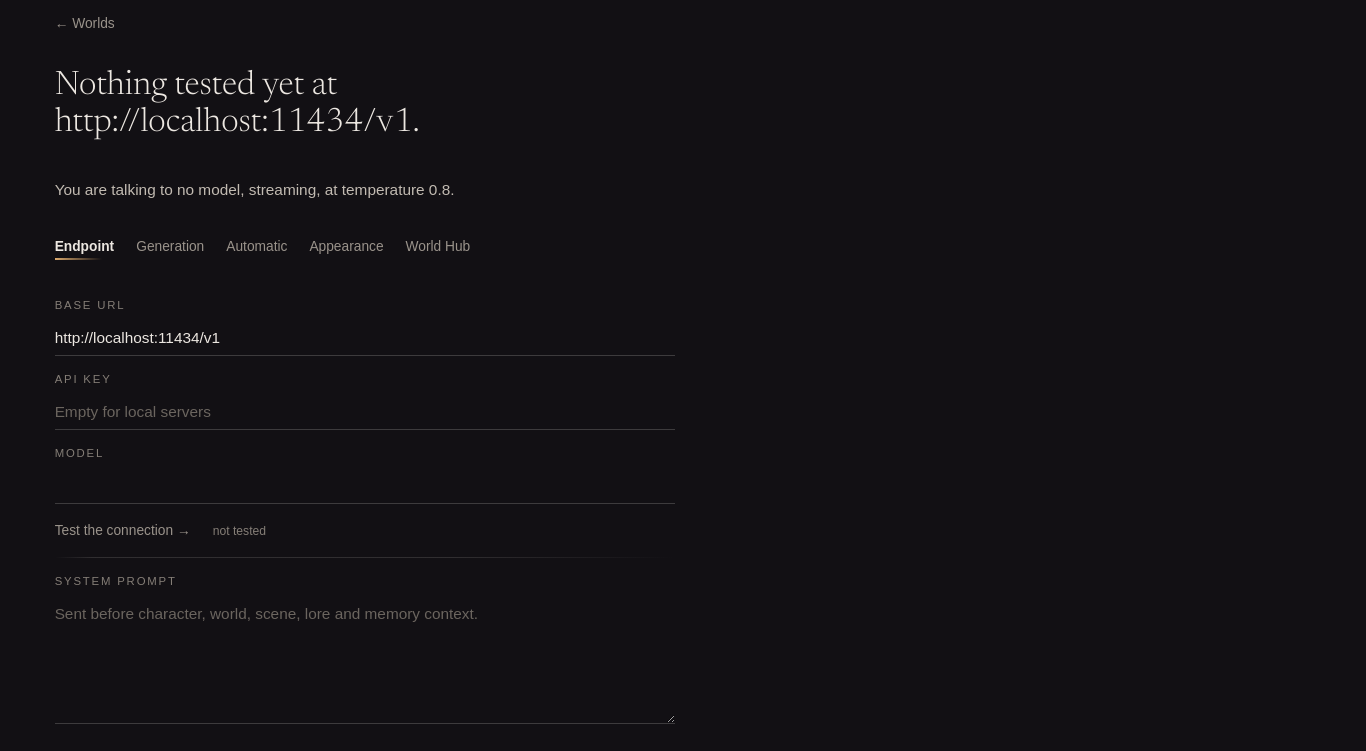
Test: generation settings › refuses to save a non-numeric sampling value
Click the tab "Generation" at point(170, 249), box [136, 239, 204, 260]
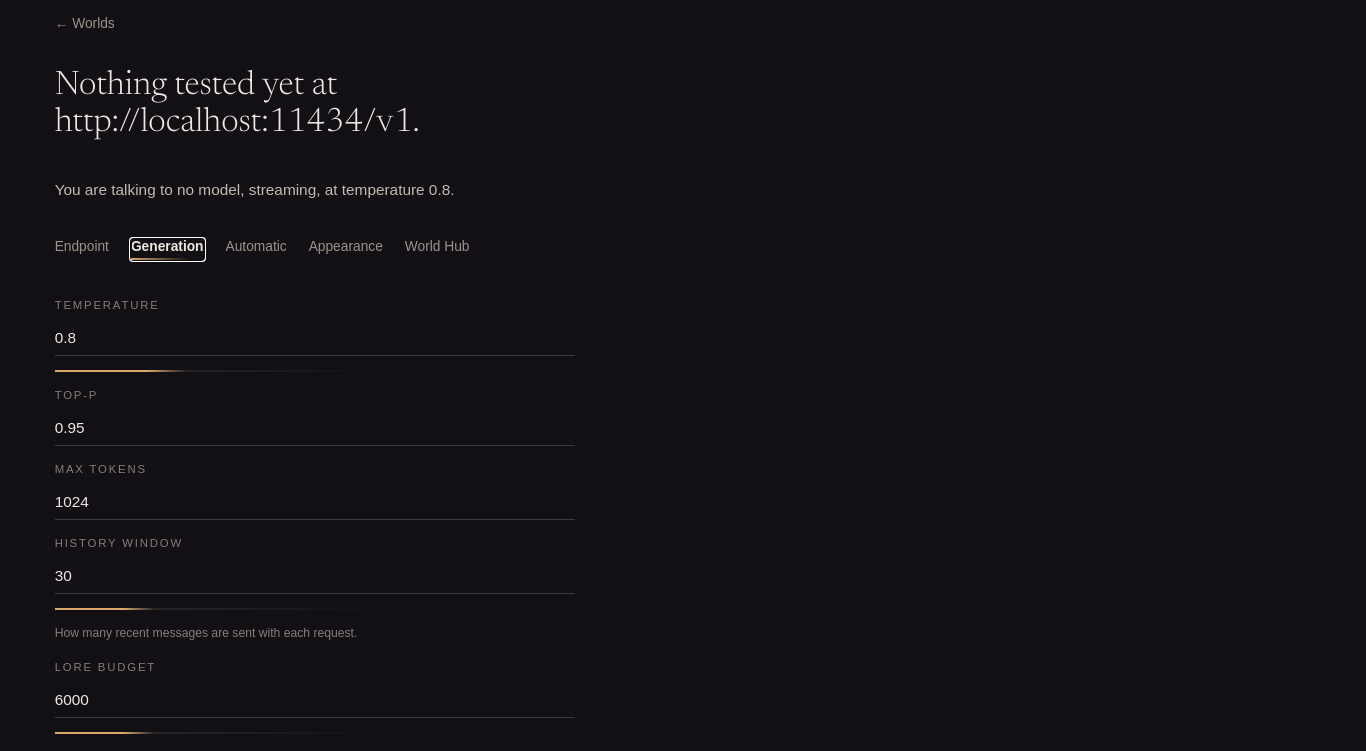
Replace the text in the field labelled "Temperature" with "warm" at point(315, 338), box [55, 320, 575, 356]
(page scrolled)
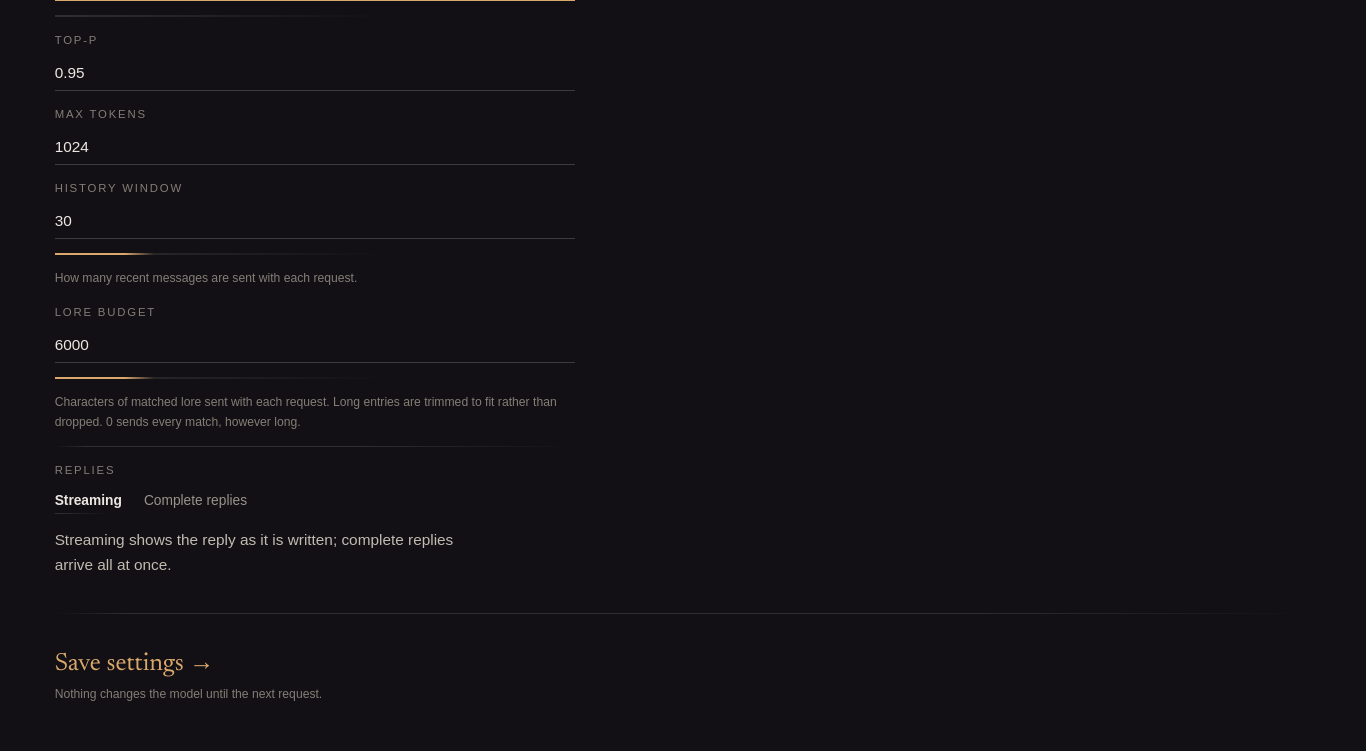
Click the button "Save settings →" at point(134, 666), box [55, 650, 214, 681]
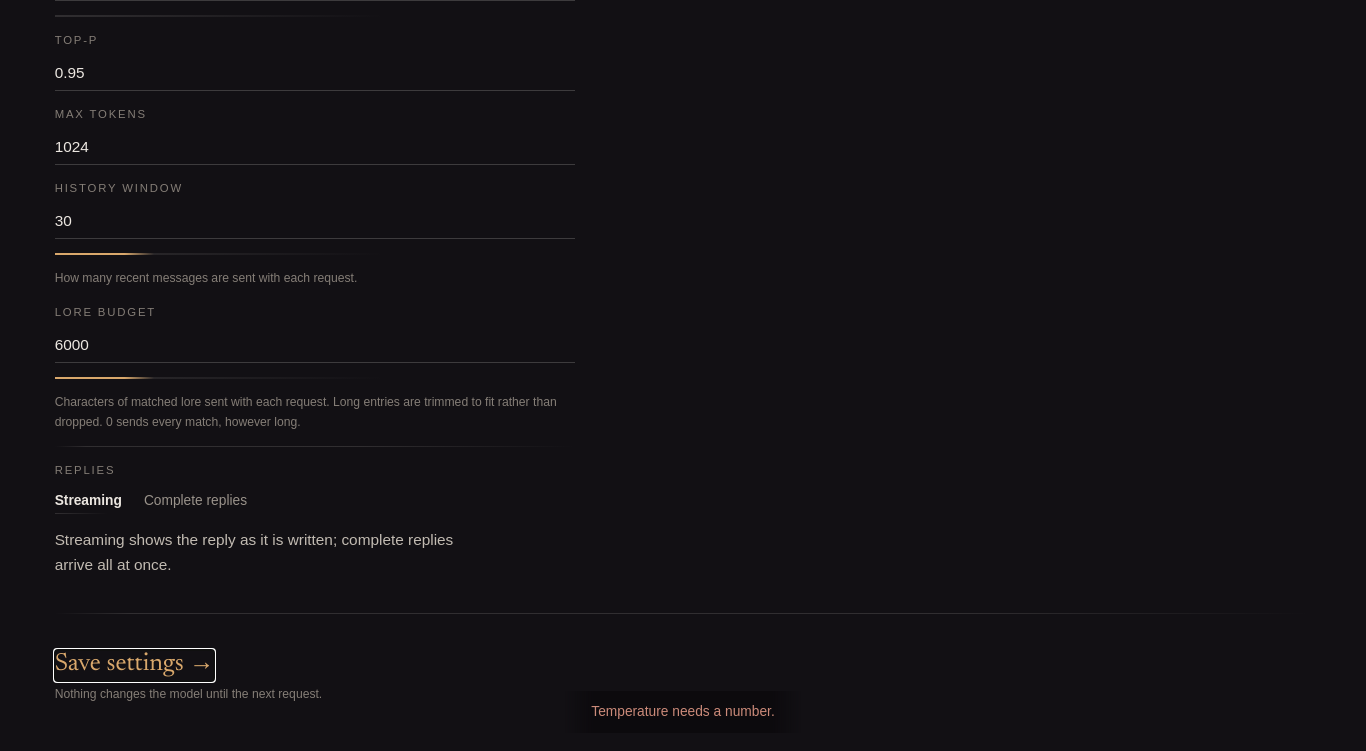
Check: the text "Temperature needs a number." is shown, box [565, 691, 801, 733]
